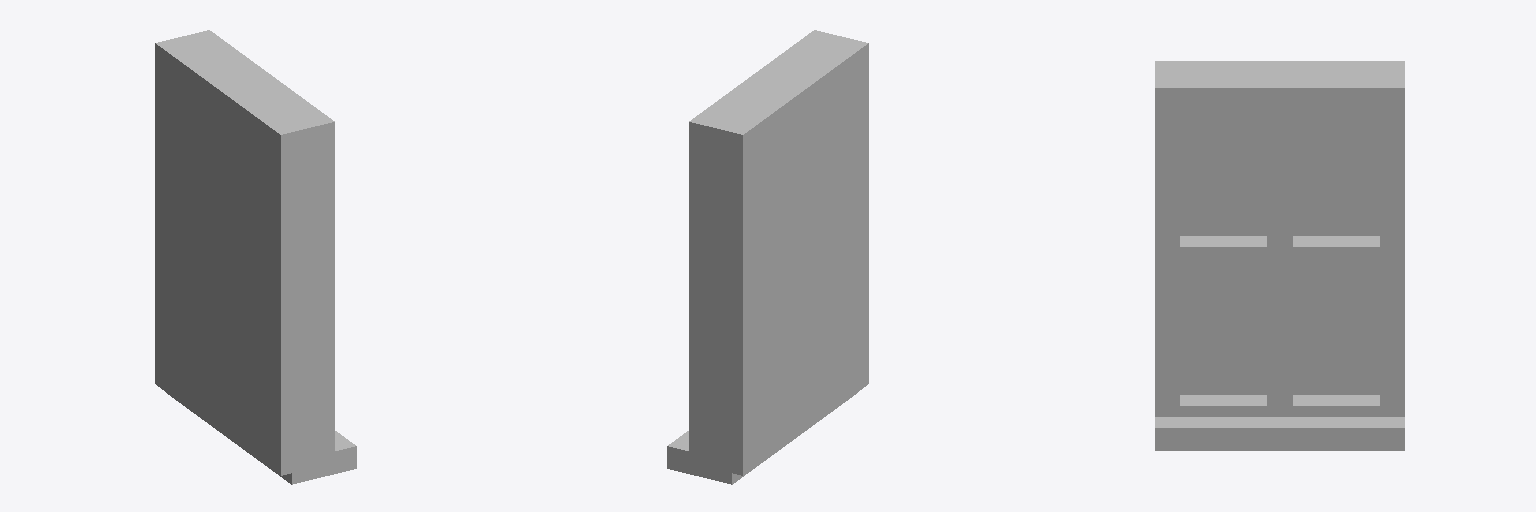
File: Window.obj
3 renders of one model, left to right at view 1: azimuth 30°, elevation 25°; view 2: azimuth 150°, elevation 25°; view 3: azimuth 270°, elevation 25°, orthographic.
Parts seen in each view (by area): view 1: Cube.004; view 2: Cube.004; view 3: Cube.004.
Boxes of the visible parts, <box> form: Cube.004: <box>155,30,356,484</box>; Cube.004: <box>667,30,868,484</box>; Cube.004: <box>1155,61,1404,450</box>.
Size of the model in its own units: 1.4 by 6.2 by 4.